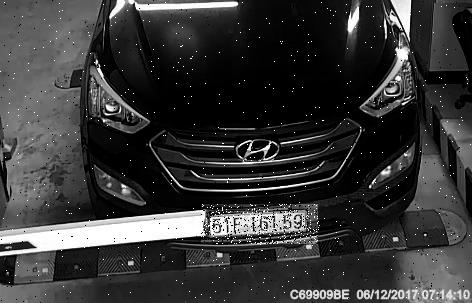License-plate: (203, 205, 321, 245)
